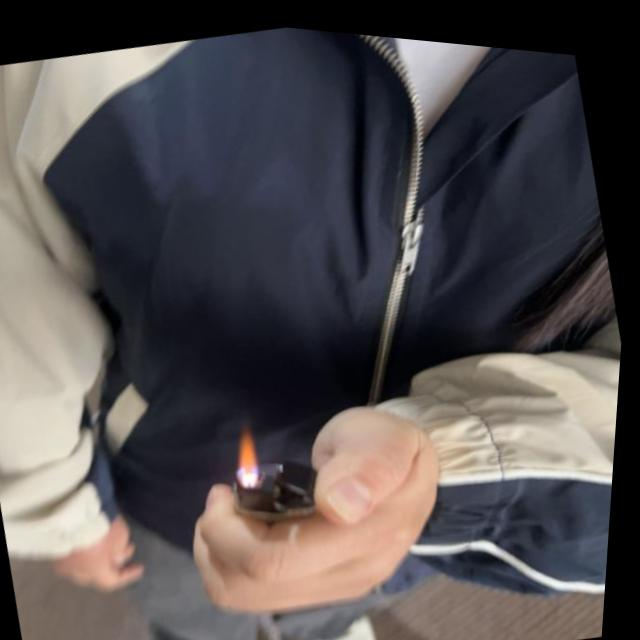Fire: (230, 418, 271, 487)
